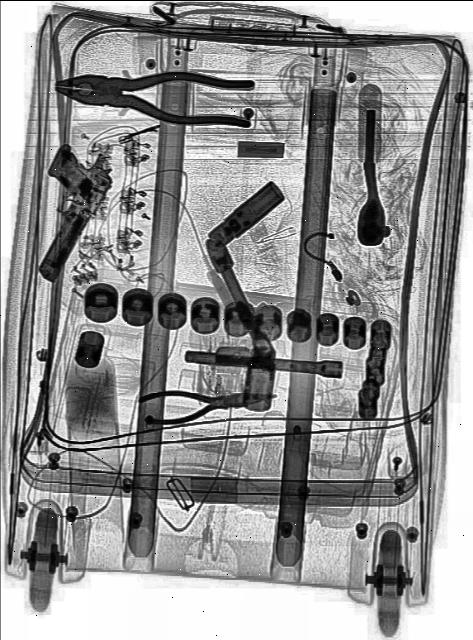Gun: (5, 138, 114, 290)
Pliers: (53, 59, 255, 133), (139, 382, 279, 426)
